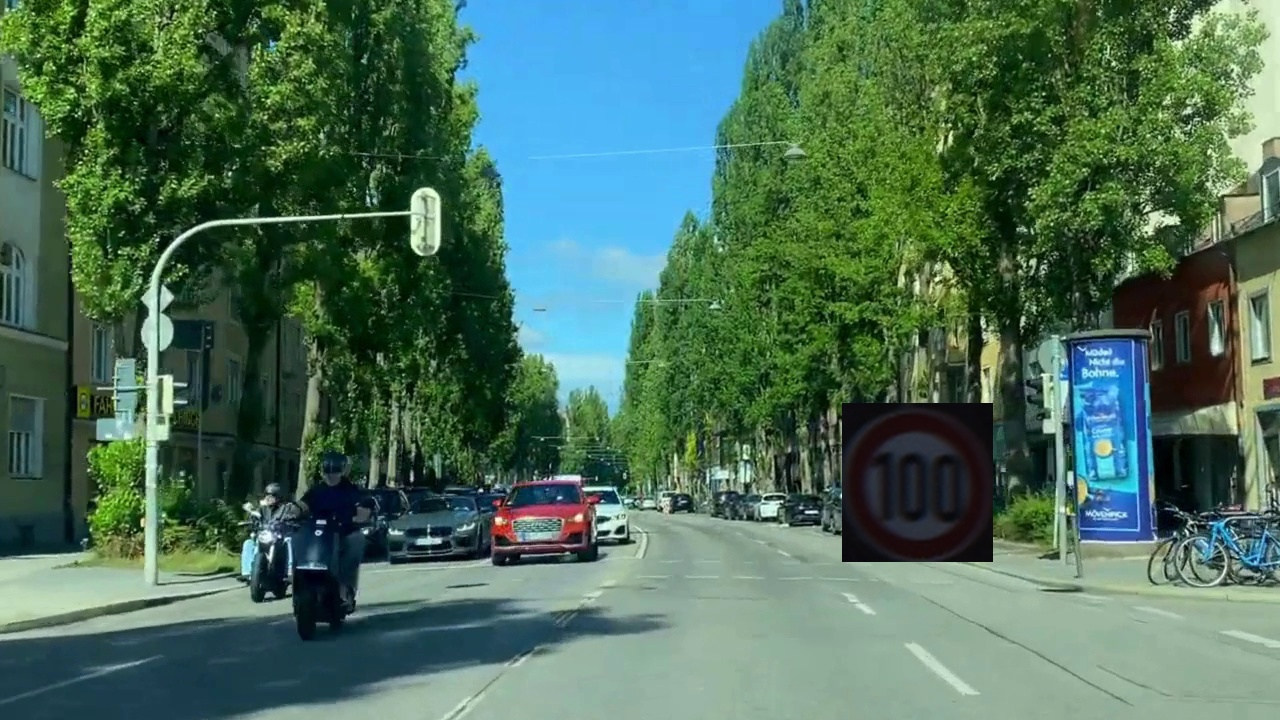Speed 100: (842, 403, 993, 562)
